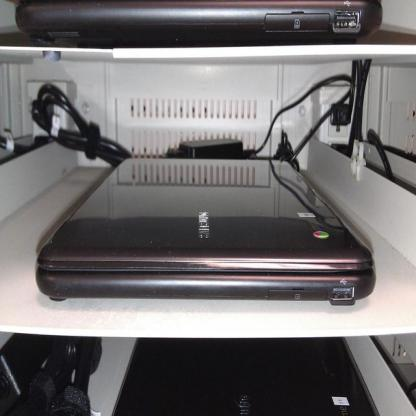board: (35, 157, 378, 306), (15, 0, 383, 47)
